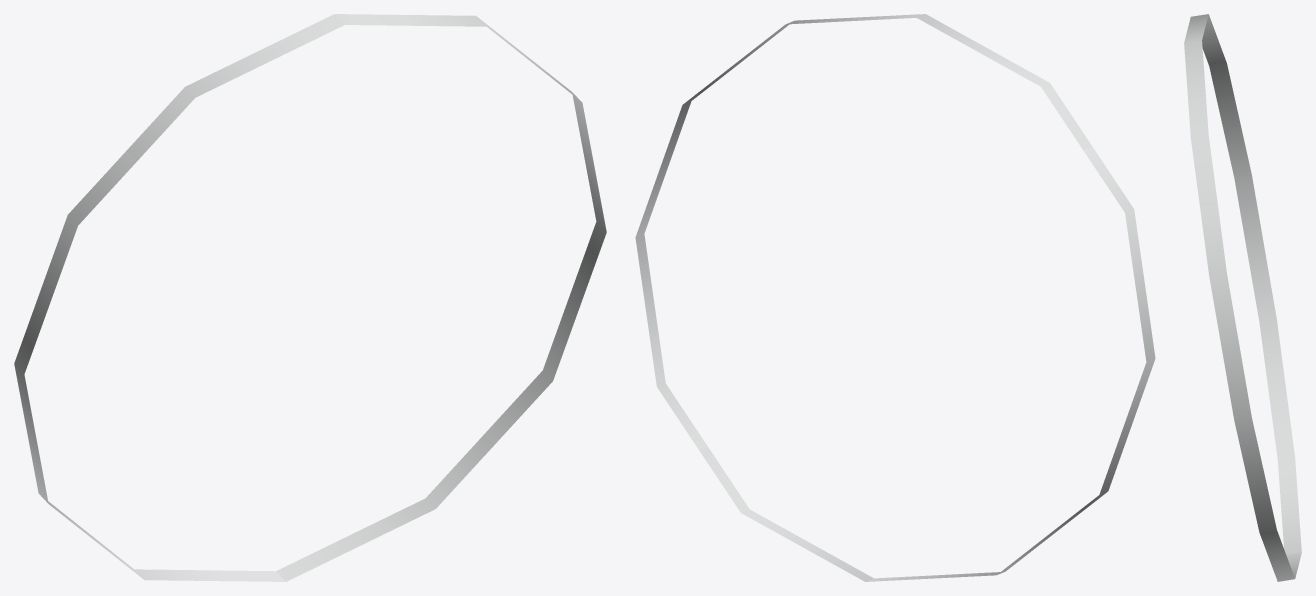
Rendered from luminairearm_vannuystriple_c13.obj.
3 renders of one model, left to right at view 1: azimuth 30°, elevation 25°; view 2: azimuth 150°, elevation 25°; view 3: azimuth 270°, elevation 25°, orthographic. The views are drawn at different scales.
Parts seen in each view (by area): view 1: luminairearm_vannuystriple_c13; view 2: luminairearm_vannuystriple_c13; view 3: luminairearm_vannuystriple_c13.
Boxes of the visible parts, <box> form: luminairearm_vannuystriple_c13: <box>14,14,606,581</box>; luminairearm_vannuystriple_c13: <box>635,14,1155,581</box>; luminairearm_vannuystriple_c13: <box>1184,14,1301,581</box>.
Bounding box in the file's own units: 0.1717 × 0.17 × 0.0352.
